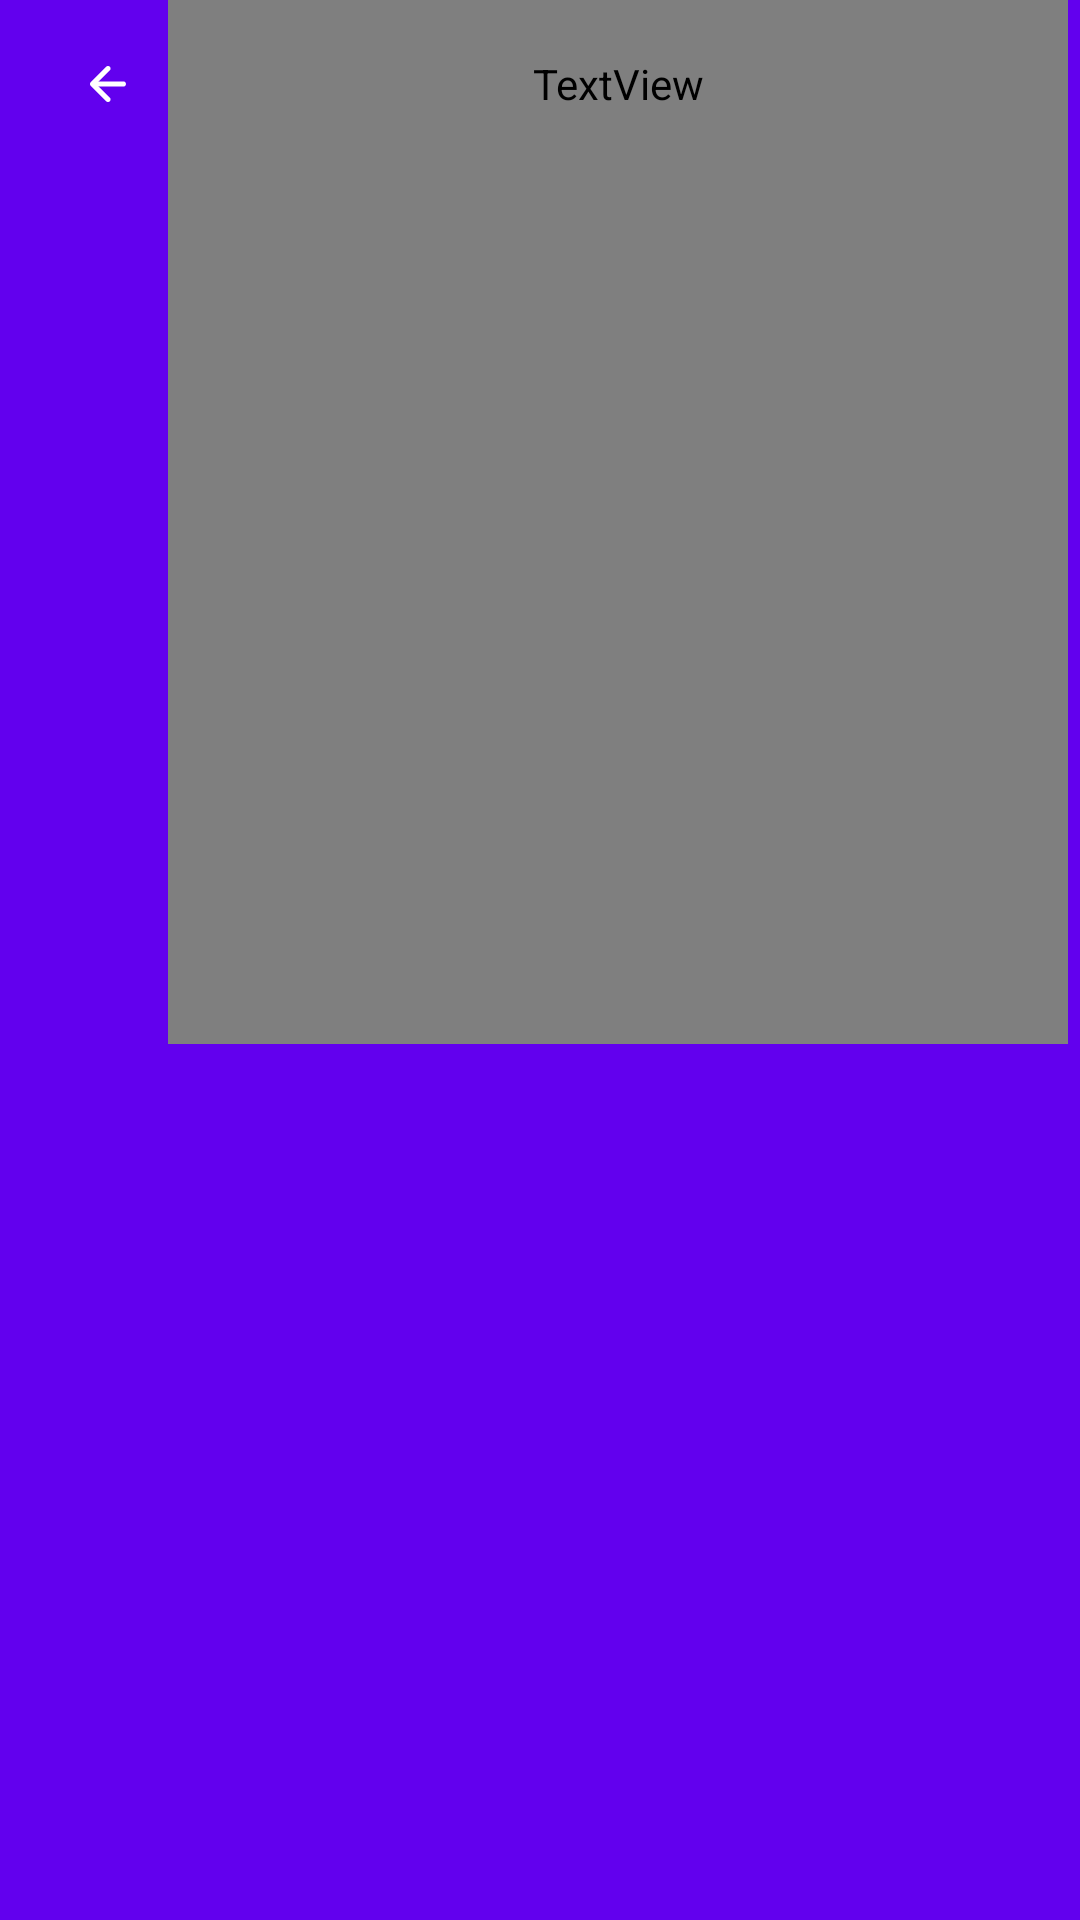

Icons on this 1080*1920 Android screen, each with the point to tap as (x=x, y=y):
back: (x=108, y=84)
